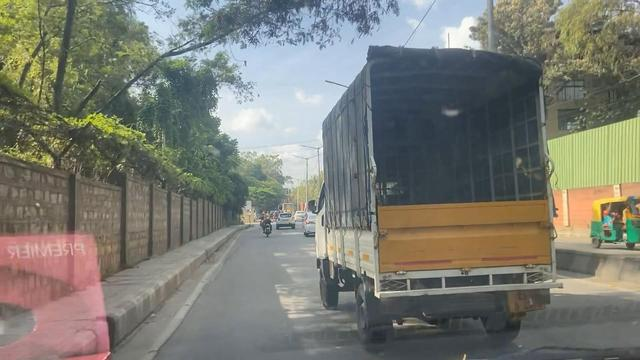HMV: (306, 25, 584, 355)
